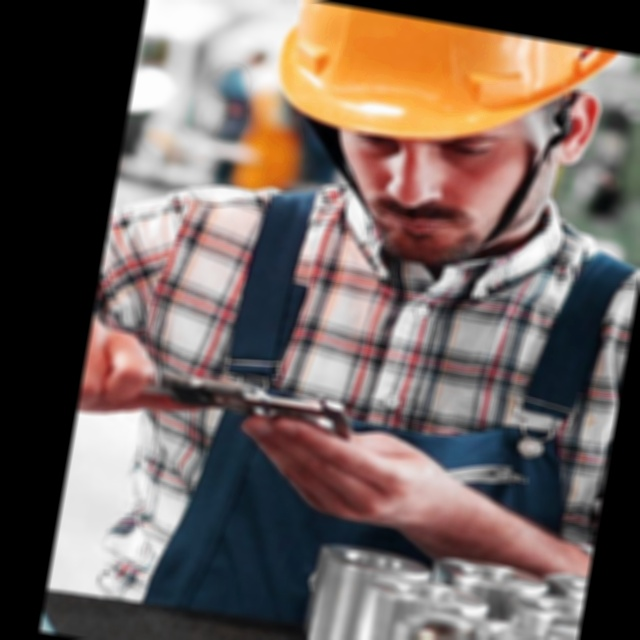Con_Casco: (273, 0, 631, 193)
